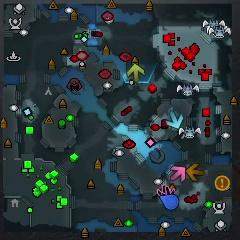Other: (215, 175, 230, 192)
p1: (160, 195, 178, 210)
x1: (170, 166, 186, 181)
x2: (125, 63, 145, 82)
x3: (166, 112, 184, 128)
x5: (187, 163, 204, 181)
